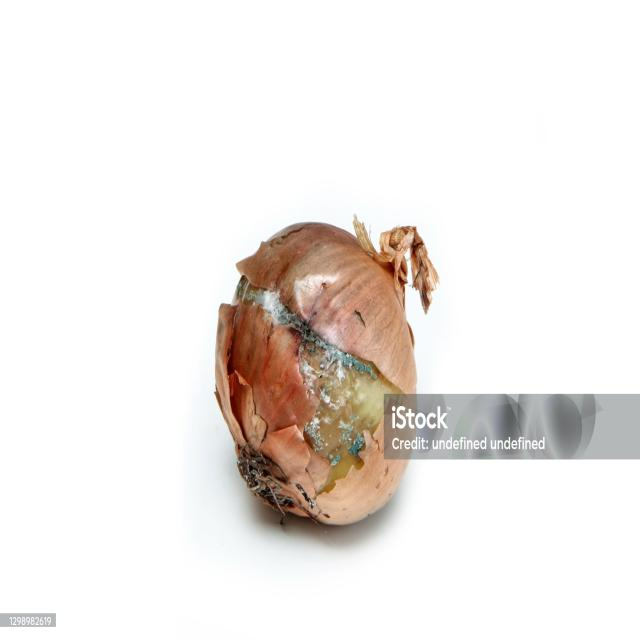mechanical_damage: (210, 188, 453, 542)
